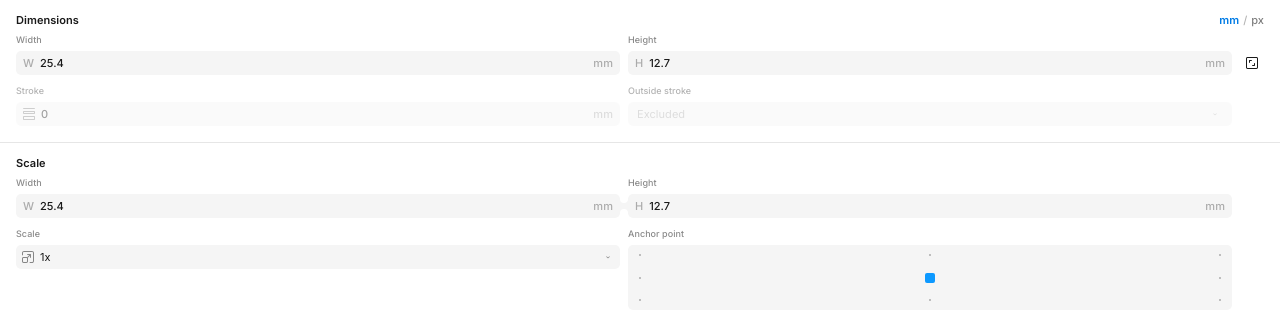
Test: PX to MM — Smart Print Size property panel › renders selected geometry in mm by default and switches dimensions to px
Expected: the number field named "Width in mm" holds "25.4", [40,52,589,74]
Expected: the number field named "Height in mm" holds "12.7", [649,52,1201,74]
Click the button "px": (1258, 20) [1251,8,1264,32]
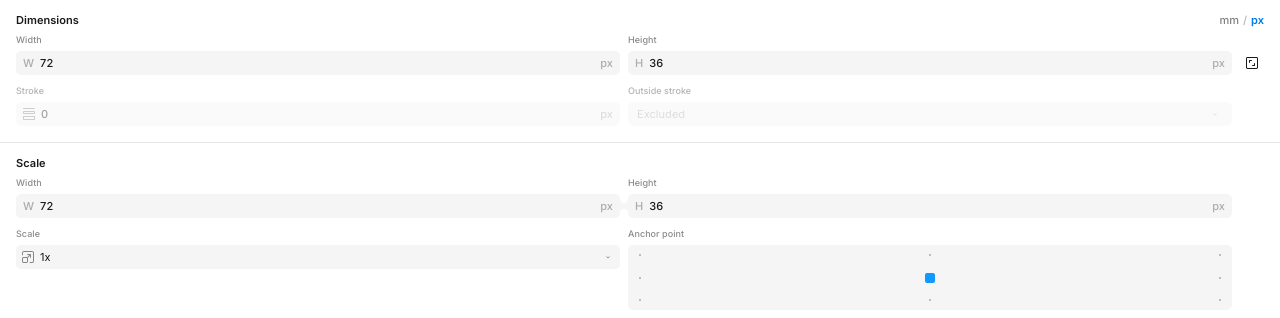
Result: the number field named "Width in px" holds "72" at [40,52,596,74]
Result: the number field named "Height in px" holds "36" at [649,52,1208,74]
Result: the number field named "Scale width in px" holds "72" at [40,195,596,217]
